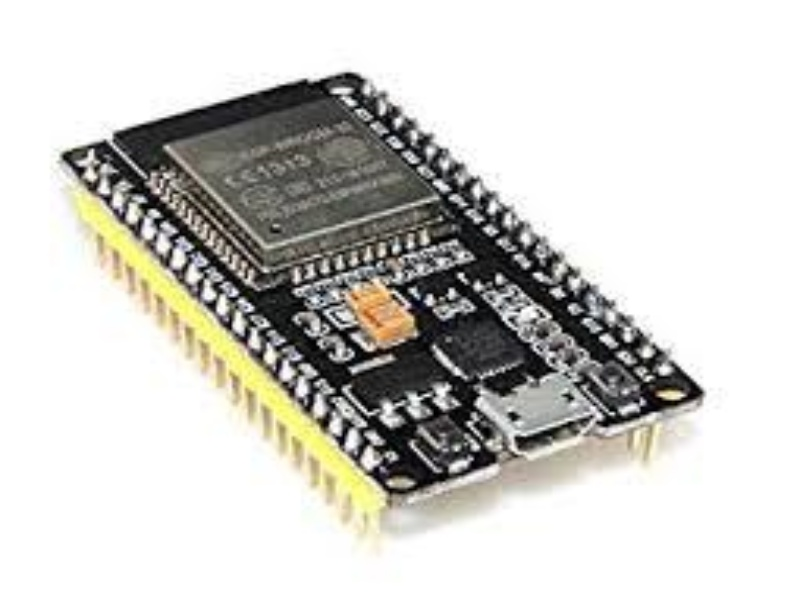esp32: (63, 61, 705, 479)
